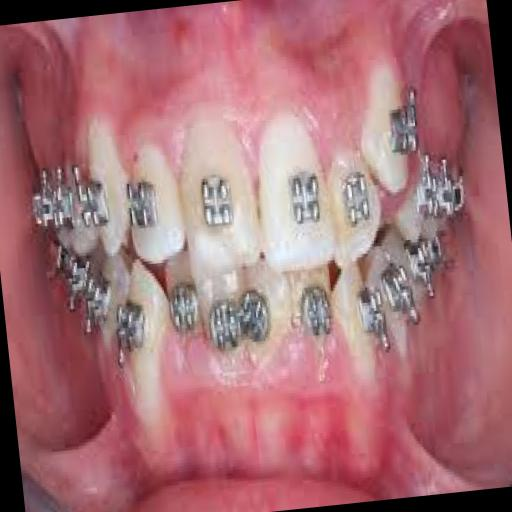correct_brace: (194, 163, 240, 236), (284, 162, 329, 232), (122, 170, 164, 235)
incorrect_brace: (119, 134, 186, 270)
